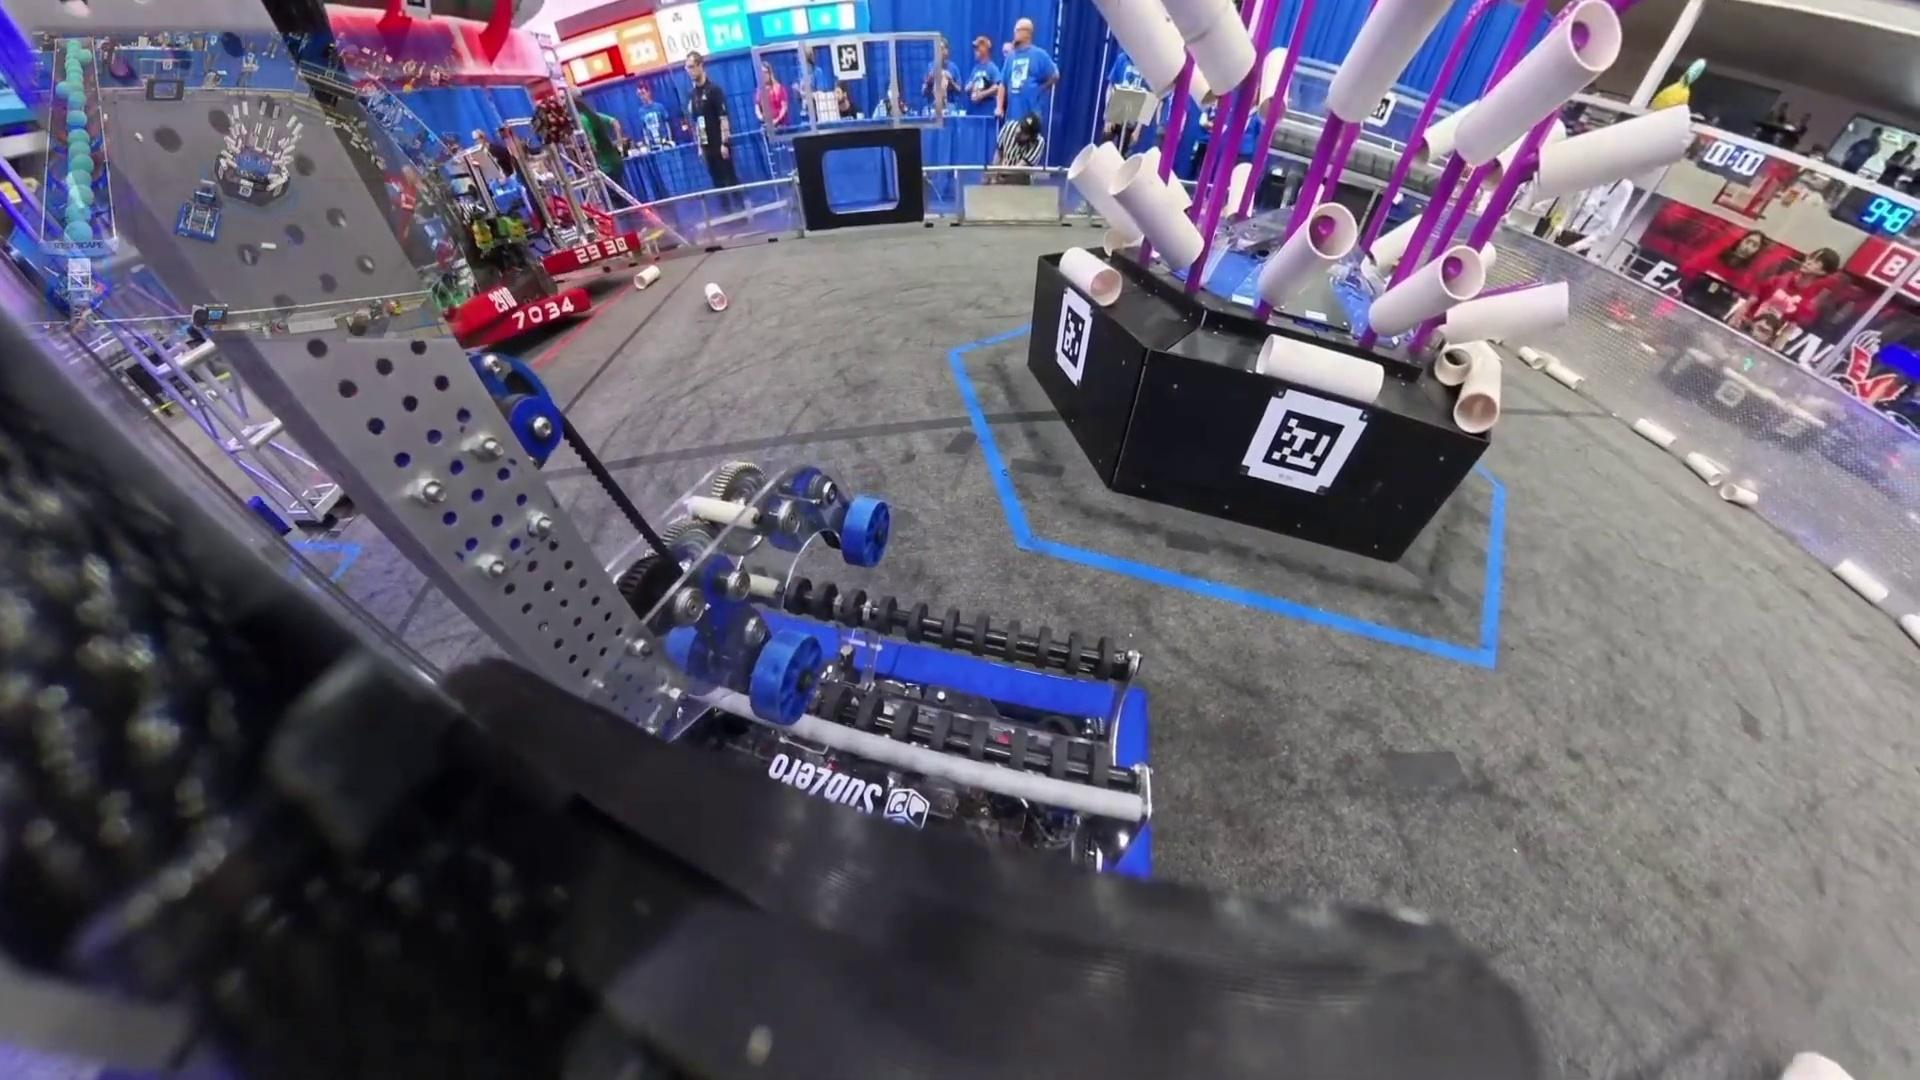robot: (509, 117, 646, 280), (452, 218, 588, 347), (440, 272, 524, 338), (42, 256, 116, 323), (169, 174, 225, 245)
